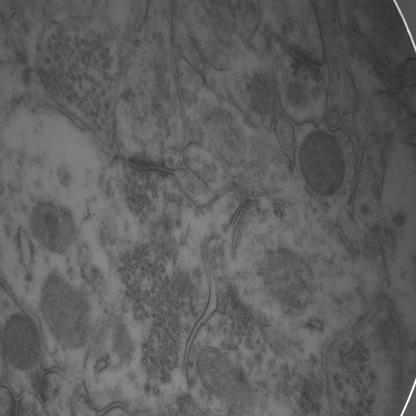mitochondria: (41, 272, 92, 345), (195, 347, 251, 409), (261, 248, 313, 311), (30, 198, 78, 259), (299, 130, 345, 193), (0, 311, 45, 367)
